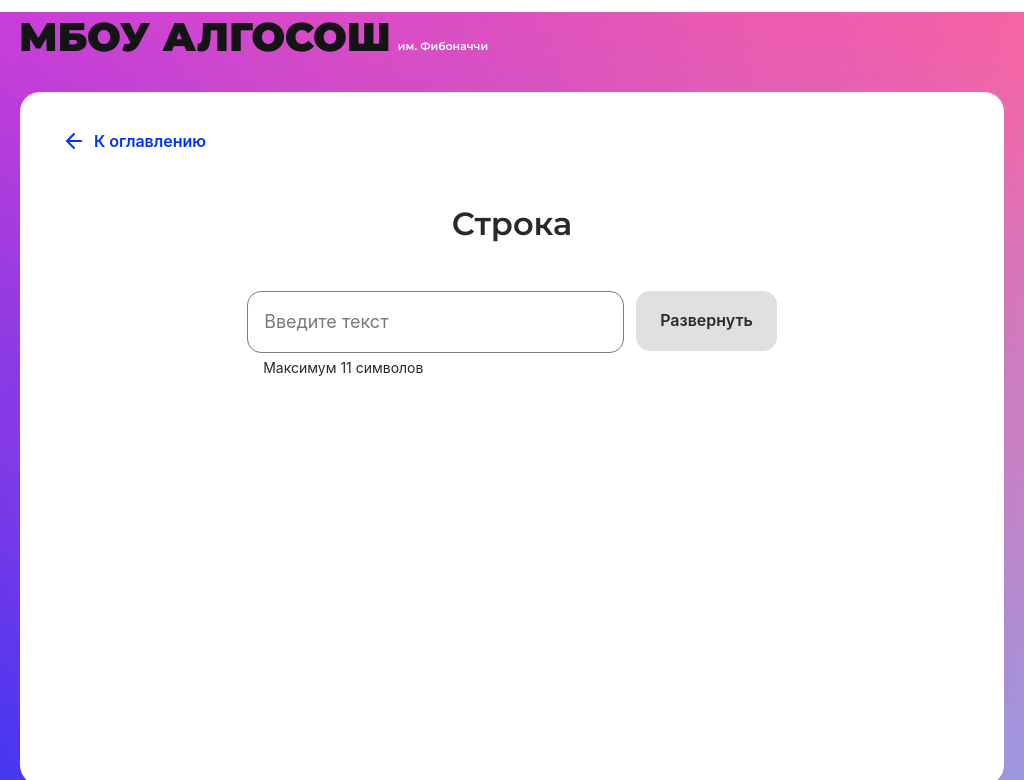
string tests › a string with one character unfolds correctly
The width and height of the screenshot is (1024, 780).
Type "q" into the field with test id "string-input" at (436,322), box [247,291,624,353]
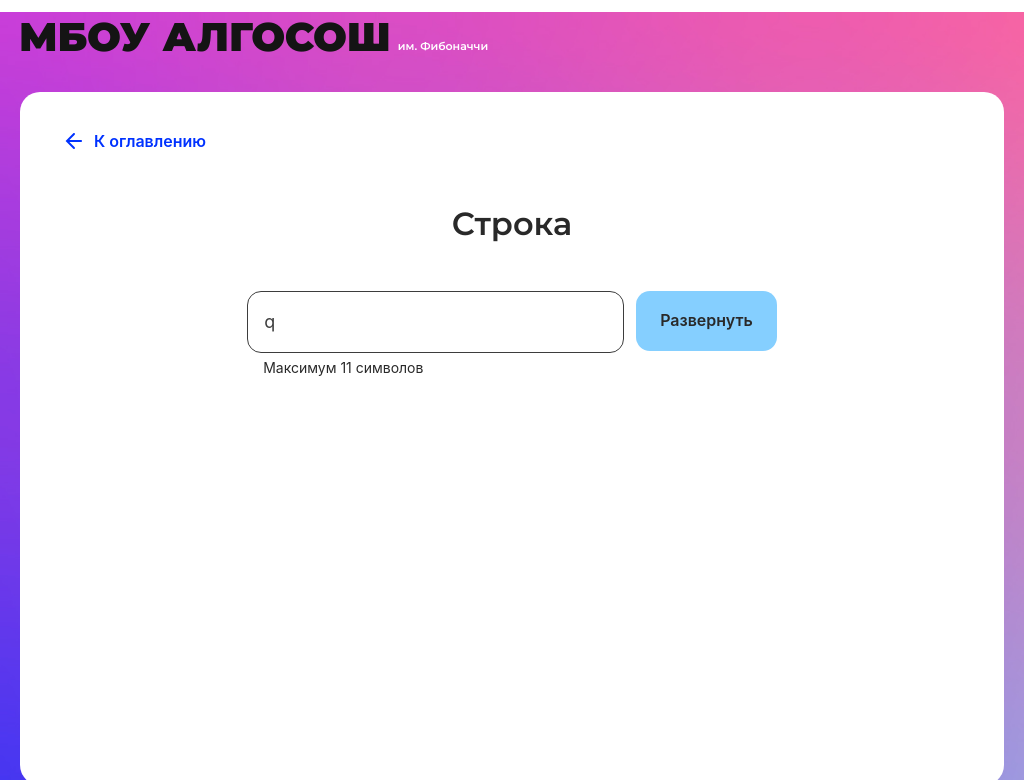
Check: the element with test id "string-submit-btn" is enabled
Click the button with test id "string-submit-btn" at (707,321), box [636,291,777,351]
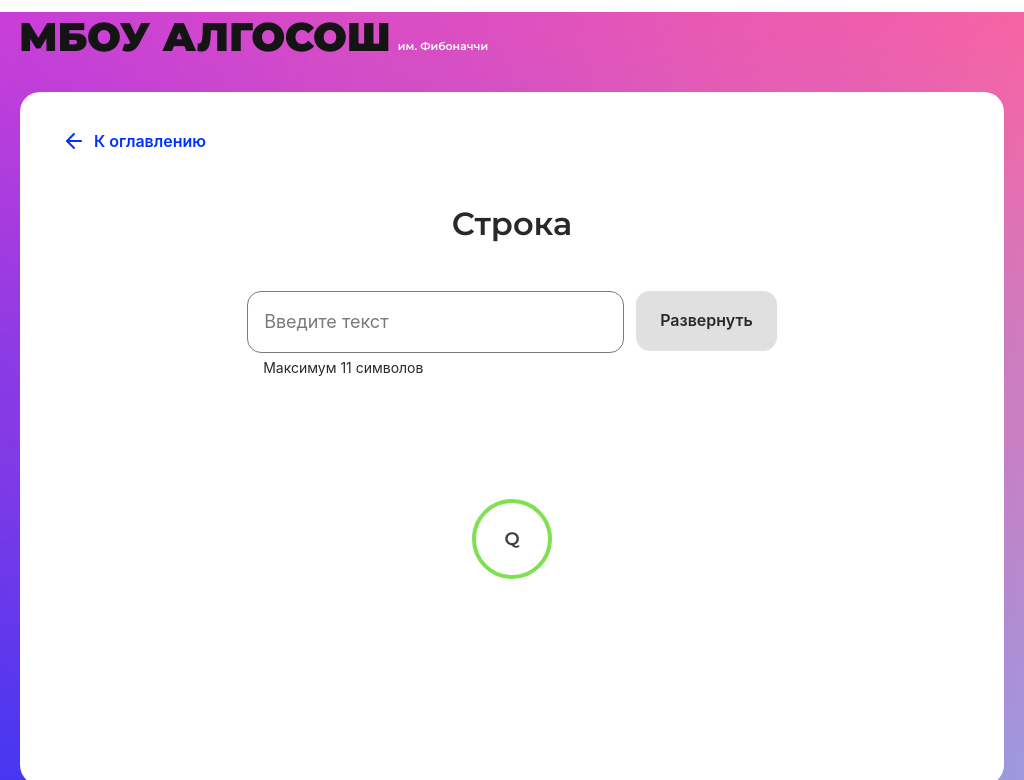
Check: the element with test id "circle" reads "Q", box [472,499,552,579]
